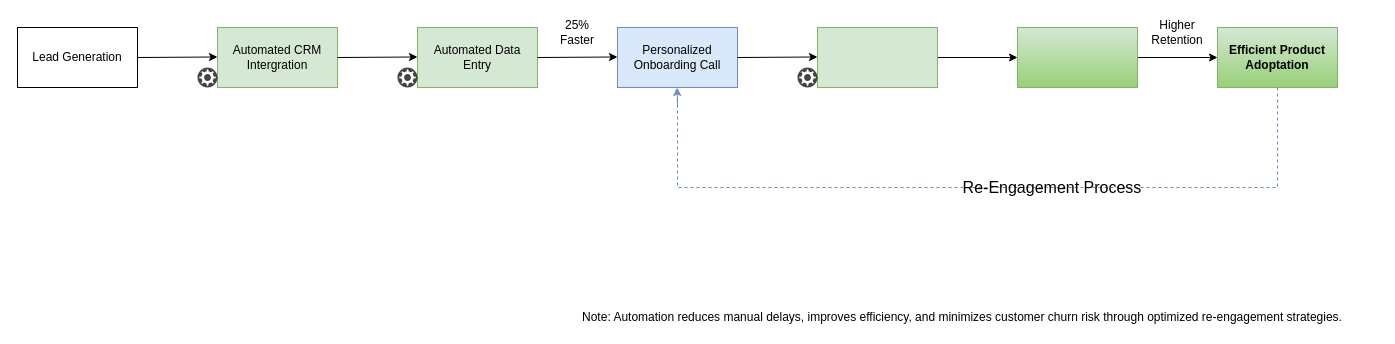
The diagram is 1395 pixels wide and 344 high, and some of its shapes have lost their labels. The centre of each missing label's shape, as x and y in pixels:
"Automated Follow-Ups & Reminders" belongs at pixel 877 57.
"Instant Product Access" belongs at pixel 1077 57.
